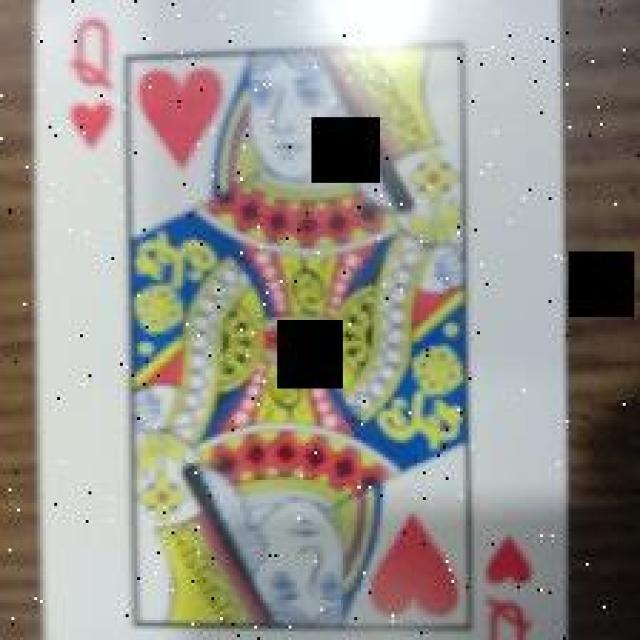Queen of hearts: (36, 1, 567, 640)
